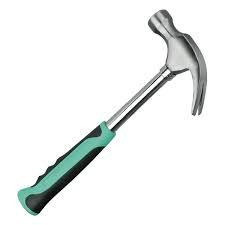hammer: (15, 7, 208, 217)
